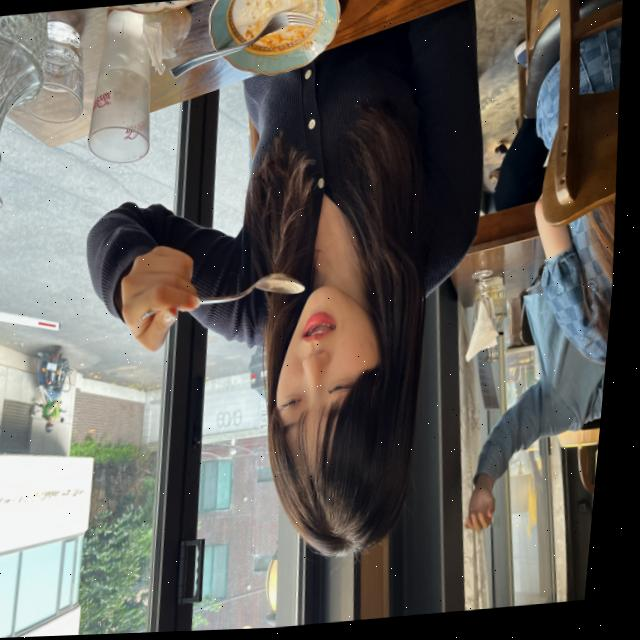eating-person: (46, 0, 546, 620)
